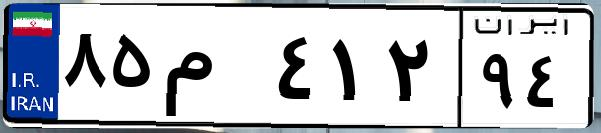1: (330, 28, 385, 110)
2: (385, 28, 445, 110)
4: (270, 28, 330, 110), (525, 38, 570, 115)
5: (110, 28, 158, 98)
8: (57, 26, 110, 100)
9: (475, 38, 525, 113)
م: (158, 20, 270, 120)
